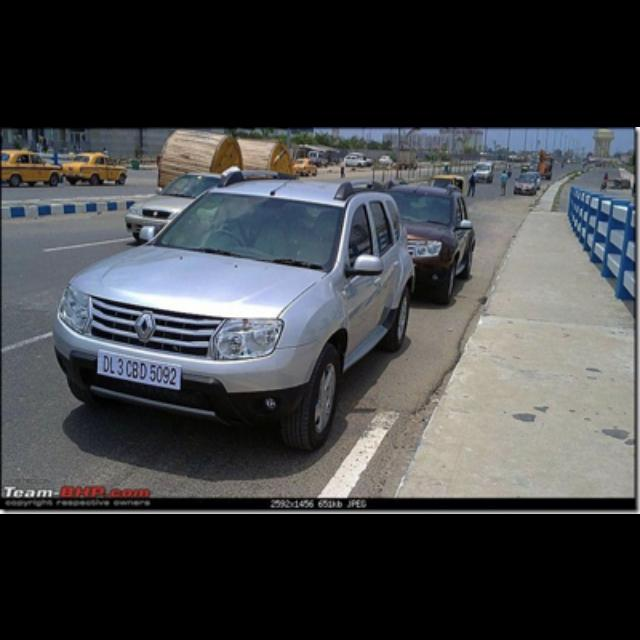carPlate: (97, 349, 181, 390)
